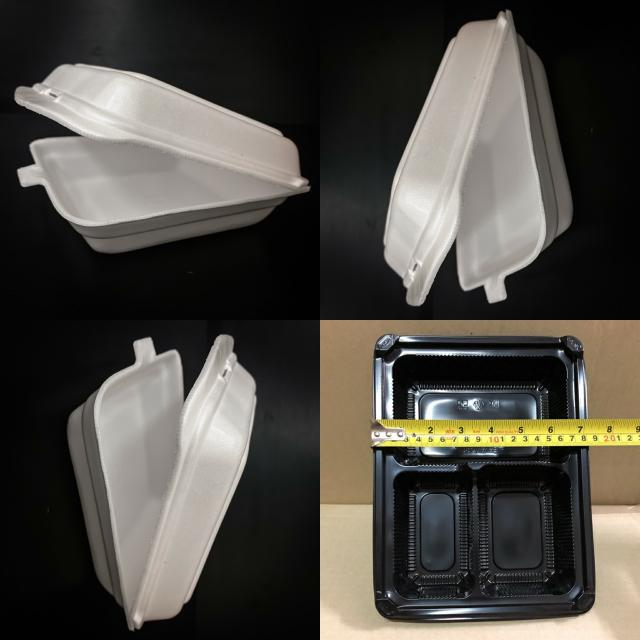Single-Use-Plastic: (371, 333, 597, 620), (15, 64, 309, 252), (384, 11, 572, 305), (68, 335, 256, 629)
